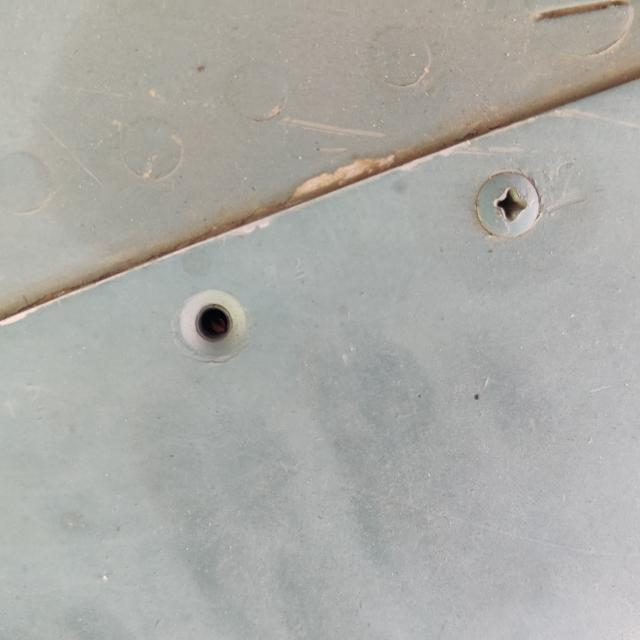missing-head: (239, 150, 380, 276)
paint-off: (414, 269, 506, 414)
